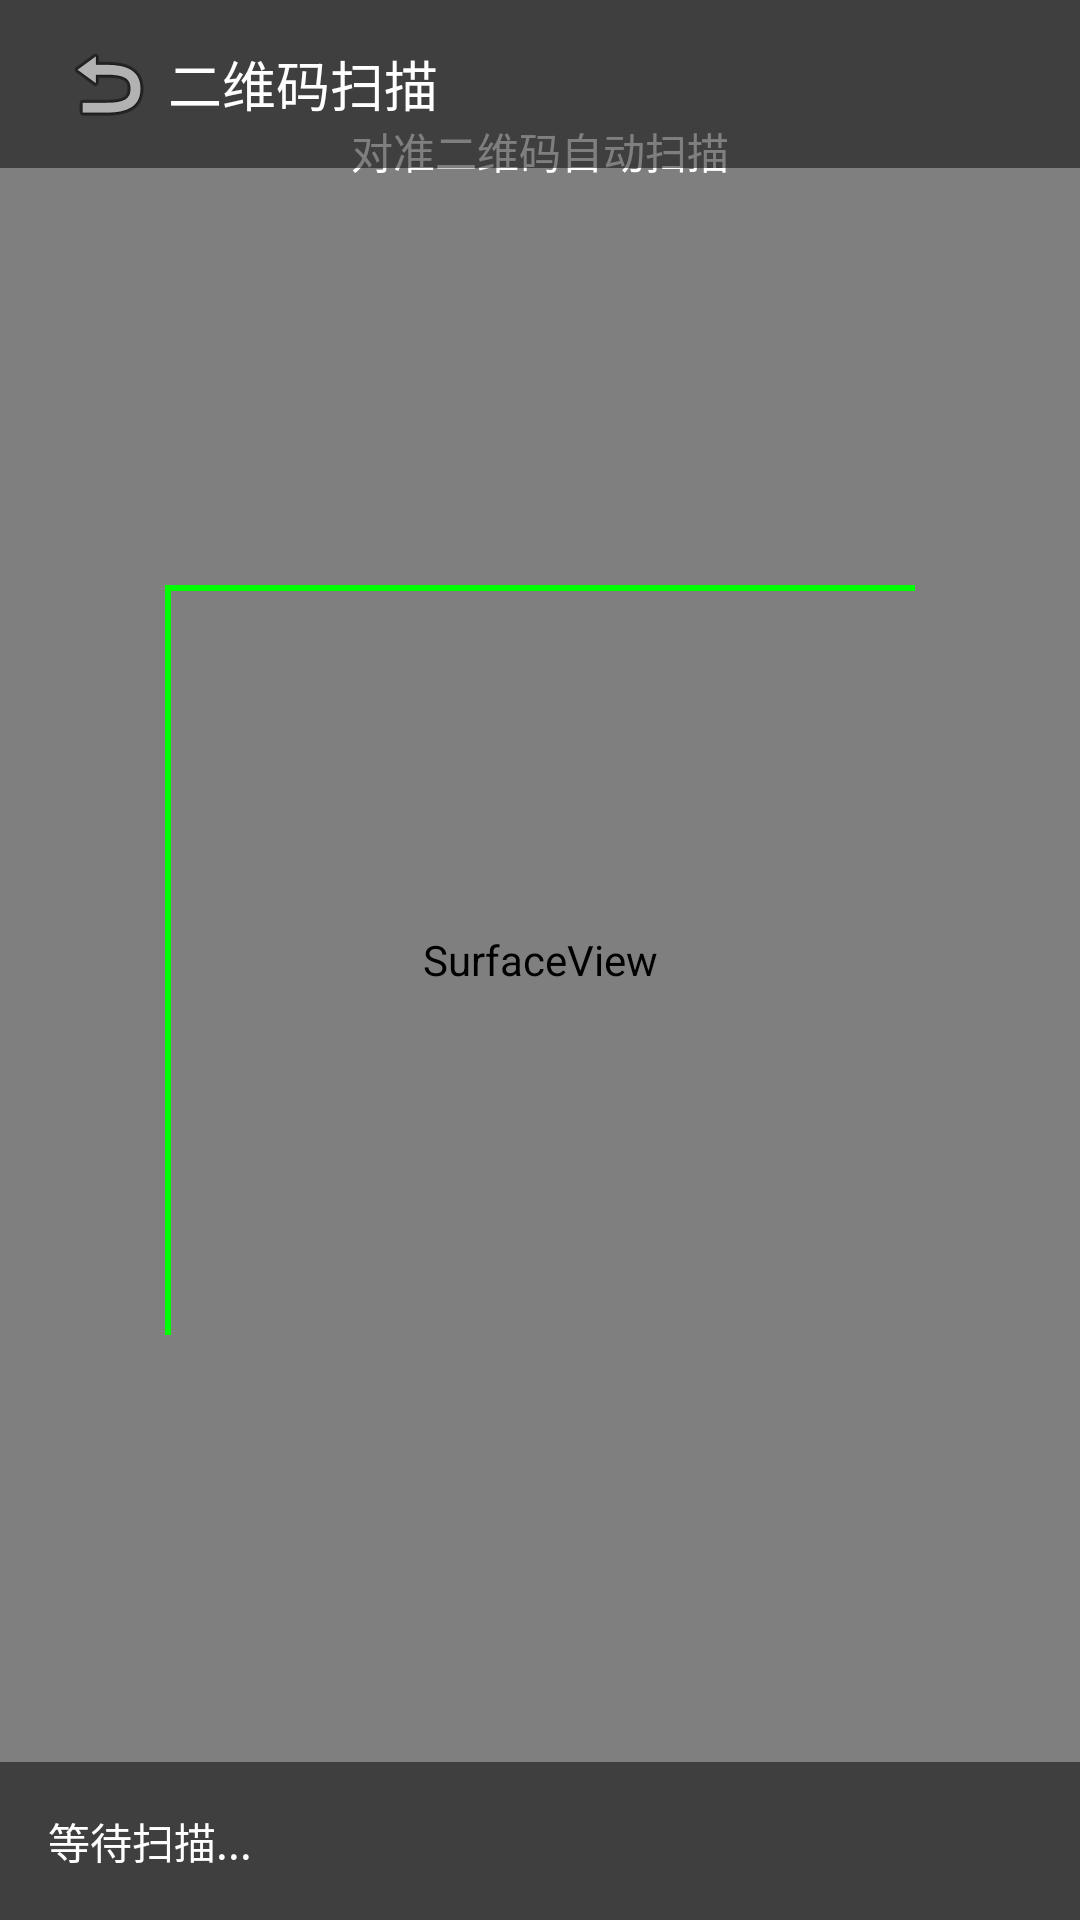

Point at icon controls on the screen. Image size 1080 x 1920, points as point (x, y).
revert: point (109, 84)
